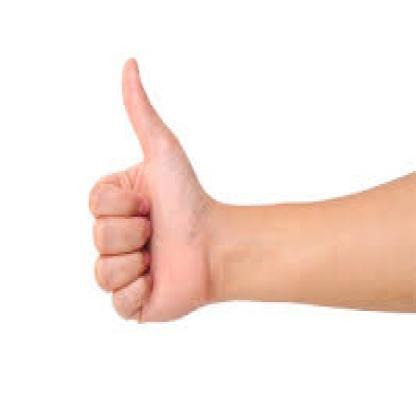thumb_up: (86, 49, 221, 326)
